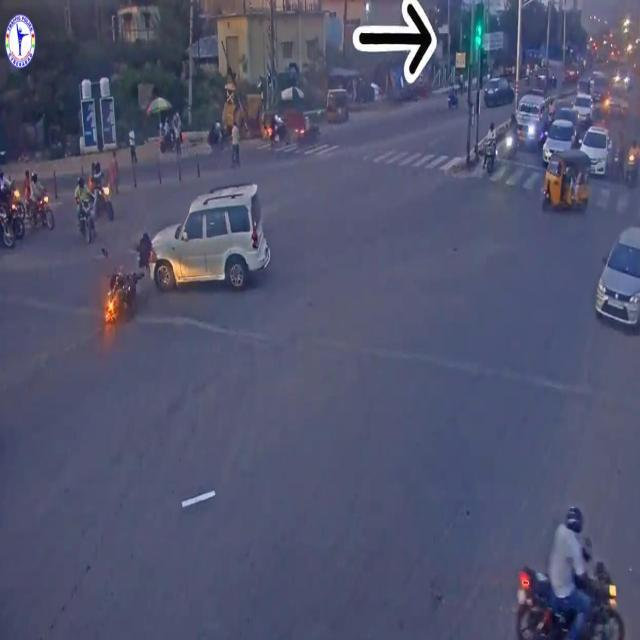accident: (100, 173, 280, 343)
non_accident: (483, 94, 640, 222), (0, 160, 57, 256), (75, 152, 117, 248)
